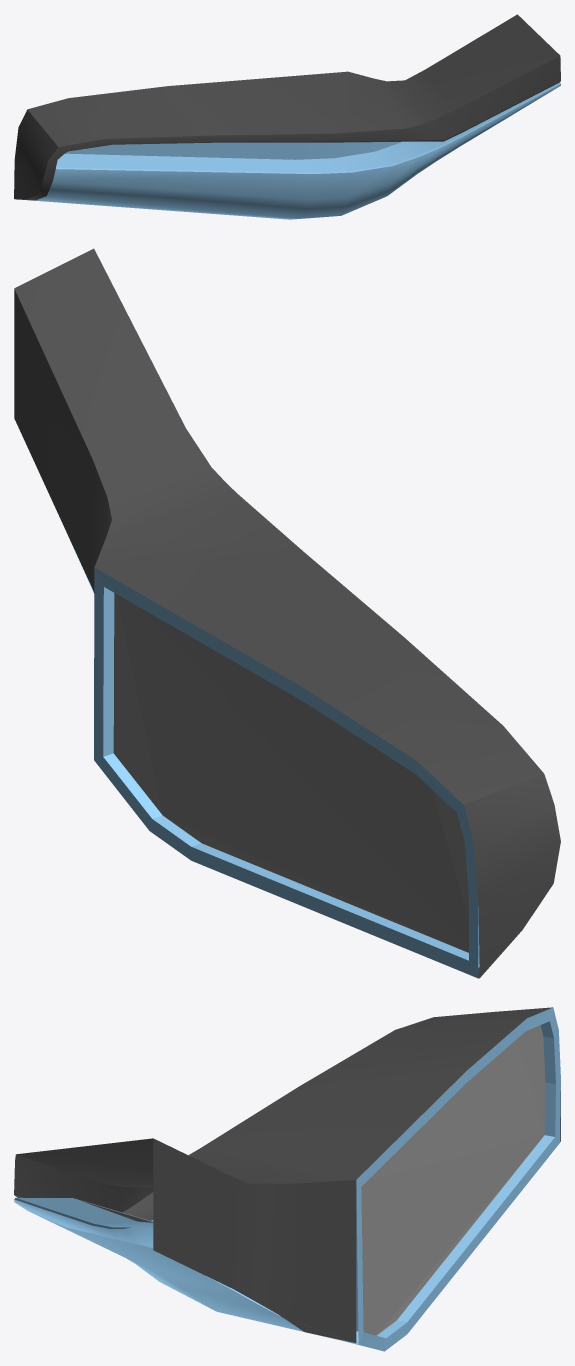
Rendered from Mirror_0.fbx.
3 views of the same model, one above another, from view 1: azimuth 30°, elevation 25°; view 2: azimuth 150°, elevation 25°; view 3: azimuth 270°, elevation 25° (orthographic). The views are drawn at different scales.
Visible parts, largest first — view 1: Car_x0020_mirror; view 2: Car_x0020_mirror; view 3: Car_x0020_mirror.
Boxes of the visible parts, box(x1,y1,x2,y2) form: Car_x0020_mirror: box(14, 14, 560, 219); Car_x0020_mirror: box(14, 248, 560, 978); Car_x0020_mirror: box(14, 1007, 560, 1351).
Bounding box in the file's own units: 1.57 × 0.8043 × 1.2.
